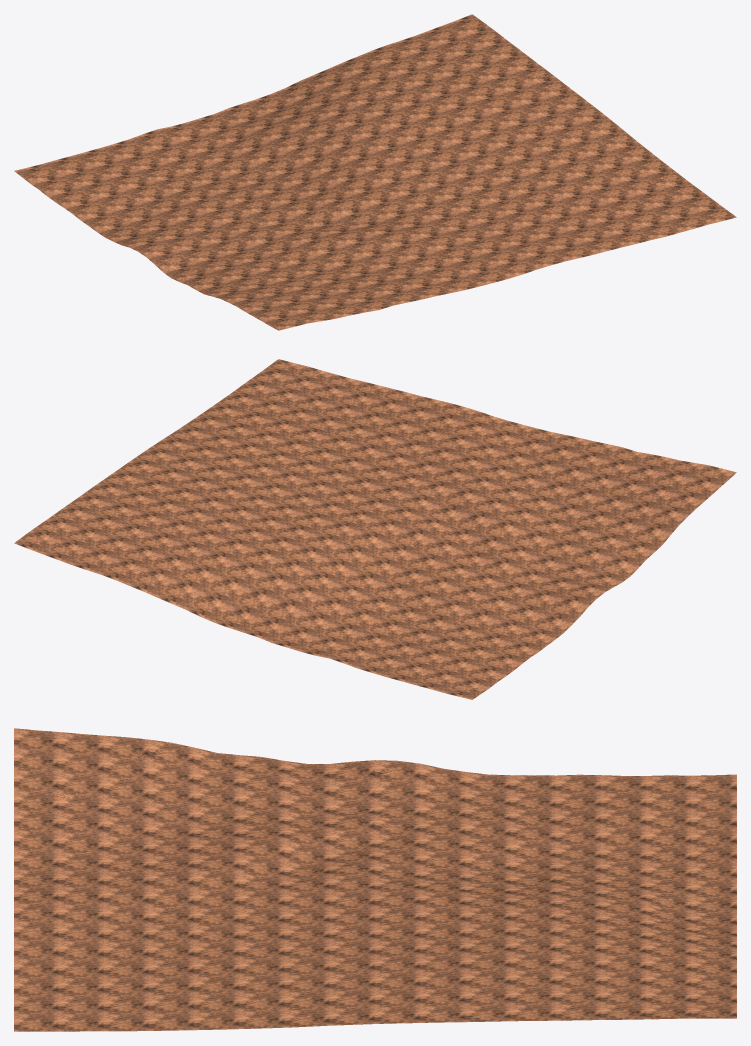
Rendered from terrain_00_16.dae.
3 views of the same model, one above another, from view 1: azimuth 30°, elevation 25°; view 2: azimuth 150°, elevation 25°; view 3: azimuth 270°, elevation 25° (orthographic). The views are drawn at different scales.
Visible parts, largest first — view 1: terrain_00_16-node; view 2: terrain_00_16-node; view 3: terrain_00_16-node.
Part boxes in pixels (x1,y1,x2,y2): terrain_00_16-node: [14, 14, 736, 330]; terrain_00_16-node: [14, 359, 736, 699]; terrain_00_16-node: [14, 728, 736, 1031].
Bounding box in the file's own units: 128 × 128 × 12.29.
Materials: 1 (1 with a texture image).
